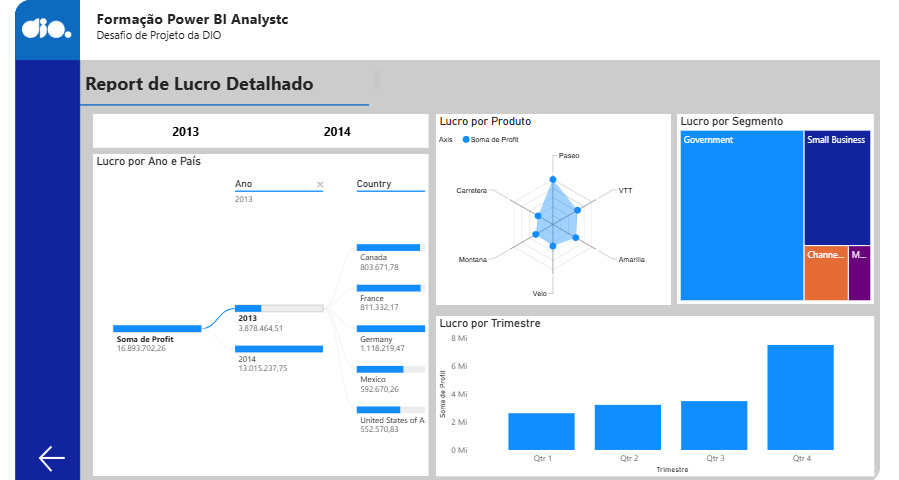

This screenshot's page, from the dashboard's own definition file:
{"tool":"powerbi","page":{"name":"Página 2","canvas":[1280,720],"ordinal":1},"visuals":[{"type":"shape","box":[10.2,7.3,1270.2,712.7],"z":0},{"type":"shape","box":[0,0,96.6,720],"z":1000},{"type":"shape","box":[0,0,96.6,89.3],"z":2000},{"type":"shape","box":[96.6,0,1183.9,89.3],"z":3000},{"type":"image","box":[10.2,0,73.2,83.4],"z":4000},{"type":"actionButton","box":[10.2,654.1,89.3,49.8],"z":5000},{"type":"textbox","box":[115.6,7.3,323.4,76.1],"z":6000},{"type":"textbox","box":[99.5,99.5,446.3,42.4],"z":7000},{"type":"shape","box":[96.6,142,427.3,26.3],"z":8000},{"type":"RadarChart1446119667547","title":"Lucro por Produto","fields":{"Y":["Sum(financials.Profit)"],"Category":["financials.Product"]},"box":[622,168.3,346.8,281],"z":9000},{"type":"treemap","title":"Lucro por Segmento","fields":{"Values":["Sum(financials.Profit)"],"Group":["financials.Segment"]},"box":[979,168.3,291.2,281],"z":10000},{"type":"clusteredColumnChart","title":"Lucro por Trimestre","fields":{"Y":["Sum(financials.Profit)"],"Category":["financials.Date.Variation.Hierarquia de datas.Trimestre"]},"box":[622,466.8,648.3,237.1],"z":11000},{"type":"decompositionTreeVisual","title":"Lucro por Ano e País","fields":{"Analyze":["Sum(financials.Profit)"],"ExplainBy":["financials.Date.Variation.Hierarquia de datas.Ano","financials.Country"]},"box":[115.6,228.3,496.1,475.6],"z":12000},{"type":"slicer","fields":{"Values":["financials.Date.Variation.Hierarquia de datas.Ano"]},"box":[115.6,168.3,496.1,49.8],"z":13000}]}

Visuals, with their boxes on the page's 1280x720 design canvas (x1, y1, x2, y2). These are canvas units, not pixel positions in the 899x480 screenshot, which may show the page scaled, cropped or inside an application window:
shape: bbox=[10, 7, 1280, 720]
shape: bbox=[0, 0, 97, 720]
shape: bbox=[0, 0, 97, 89]
shape: bbox=[97, 0, 1280, 89]
image: bbox=[10, 0, 83, 83]
actionButton: bbox=[10, 654, 100, 704]
textbox: bbox=[116, 7, 439, 83]
textbox: bbox=[100, 100, 546, 142]
shape: bbox=[97, 142, 524, 168]
"Lucro por Produto" RadarChart1446119667547: bbox=[622, 168, 969, 449]
"Lucro por Segmento" treemap: bbox=[979, 168, 1270, 449]
"Lucro por Trimestre" clusteredColumnChart: bbox=[622, 467, 1270, 704]
"Lucro por Ano e País" decompositionTreeVisual: bbox=[116, 228, 612, 704]
slicer - financials.Date.Variation.Hierarquia de datas.Ano: bbox=[116, 168, 612, 218]
